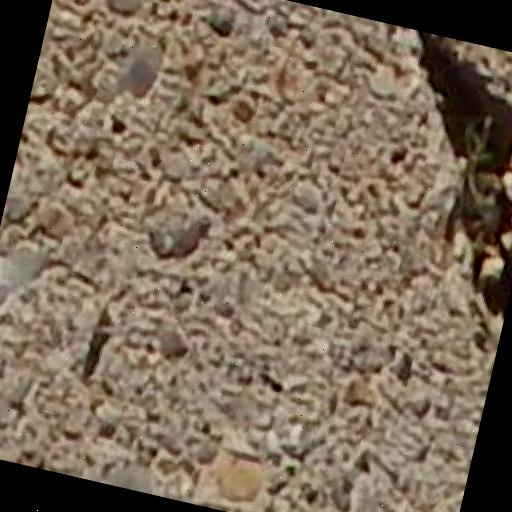spalling: (376, 31, 512, 349)
